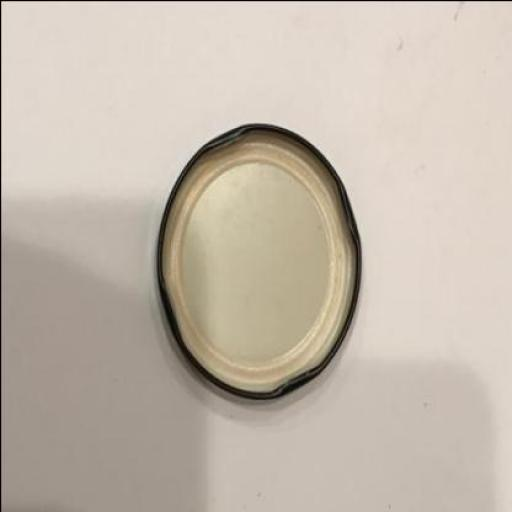metal: (156, 120, 362, 398)
